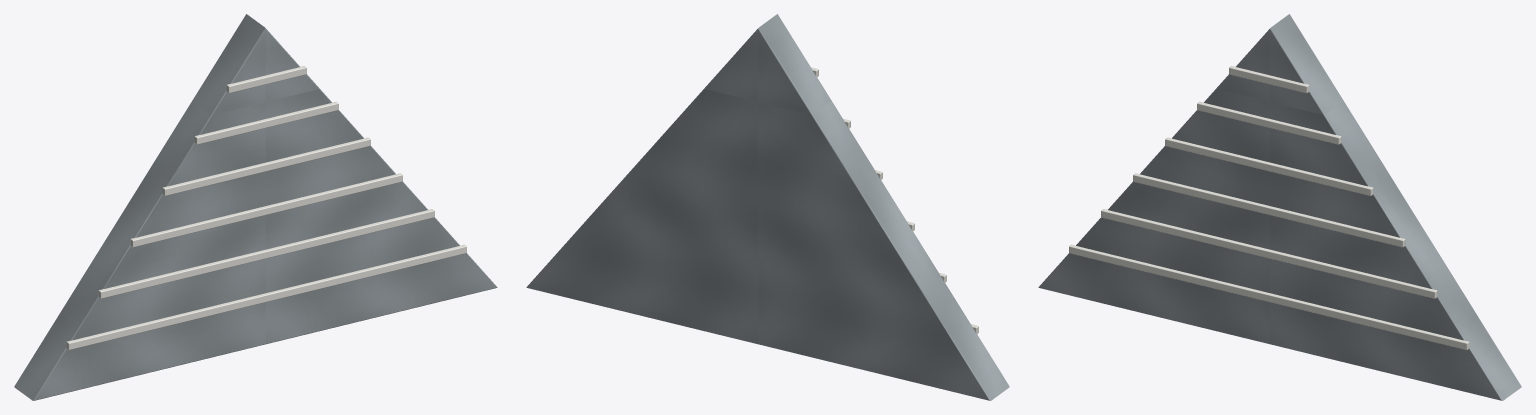
The model's file is paranormal-investigation-house-gable-end-fe897046__26693.glb.
3 renders of one model, left to right at view 1: azimuth 30°, elevation 25°; view 2: azimuth 150°, elevation 25°; view 3: azimuth 330°, elevation 25°, orthographic.
Visible parts, largest first — view 1: gable-end; view 2: gable-end; view 3: gable-end.
Part boxes in pixels (x1,y1,x2,y2): gable-end: (14, 14, 497, 400); gable-end: (526, 14, 1009, 400); gable-end: (1038, 14, 1521, 400).
Bounding box in the file's own units: 2.01 × 1.31 × 0.164.
2 materials, 1 textured.
